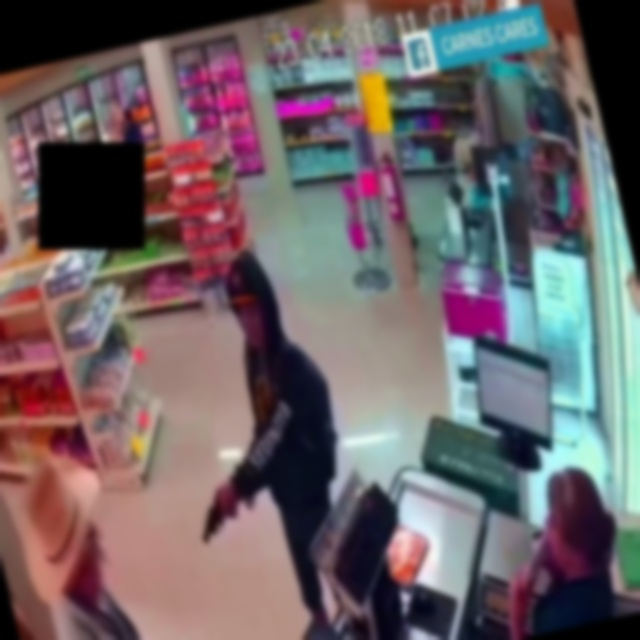gun: (179, 460, 246, 570)
